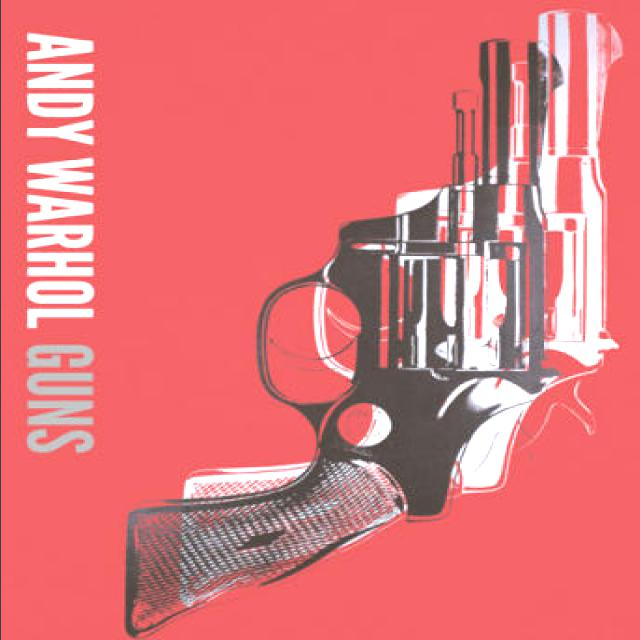handgun: (177, 7, 629, 610), (123, 39, 569, 636)
